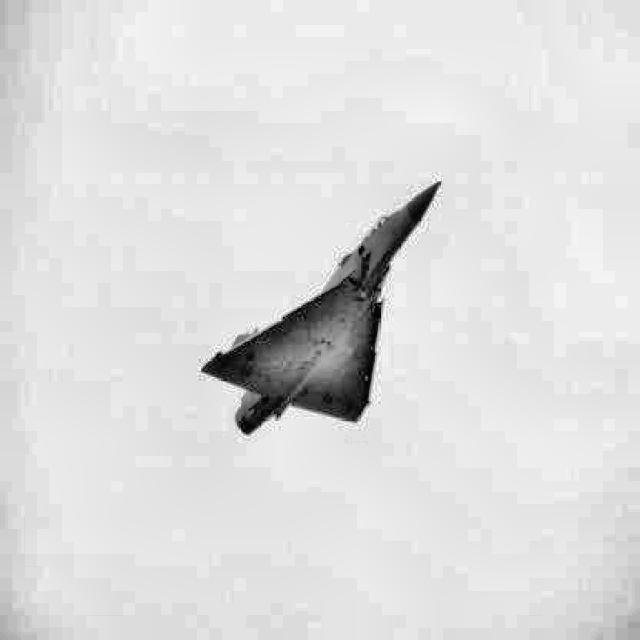Mirage2000: (198, 180, 442, 435)
